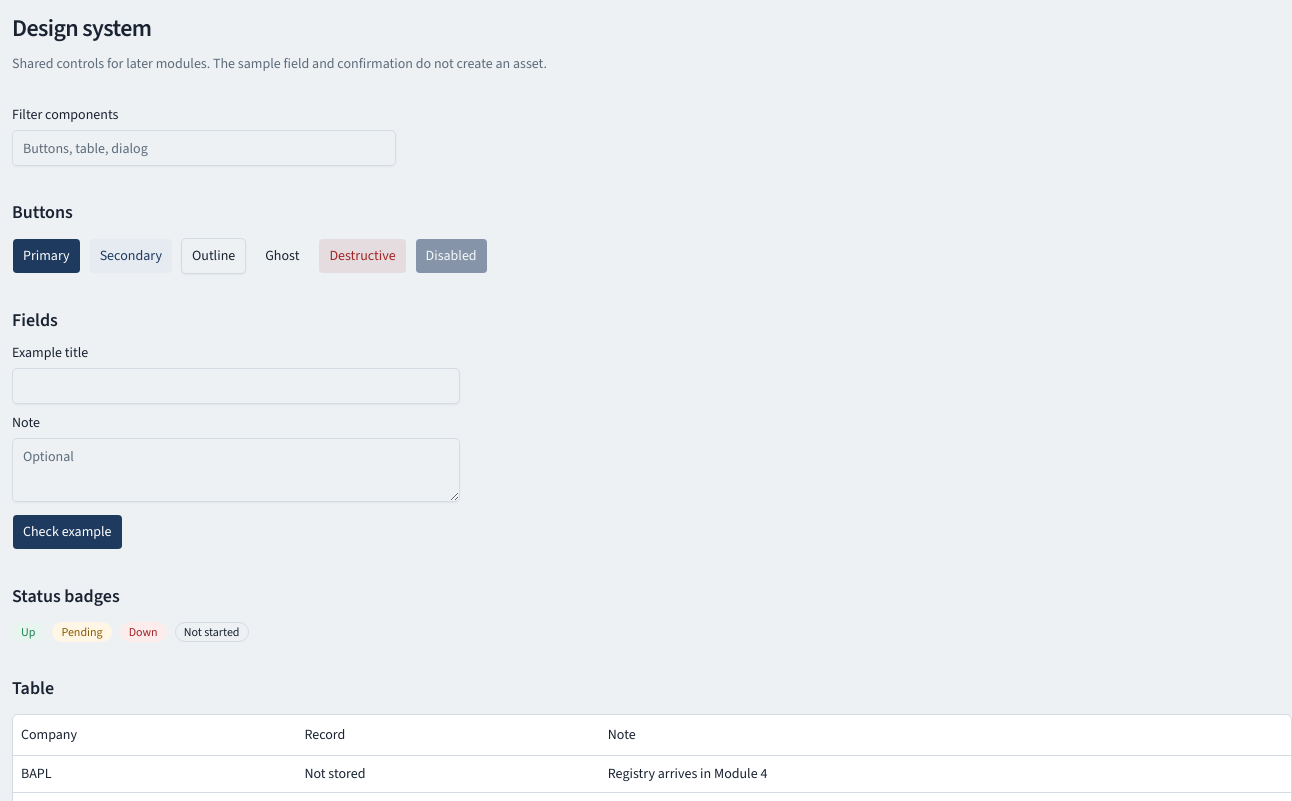
Scenario: DesignSystemPage › filters sections by name
Type "dialog" into the field labelled "Filter components".
click(204, 148); type("dialog")  # box [12,130,396,166]
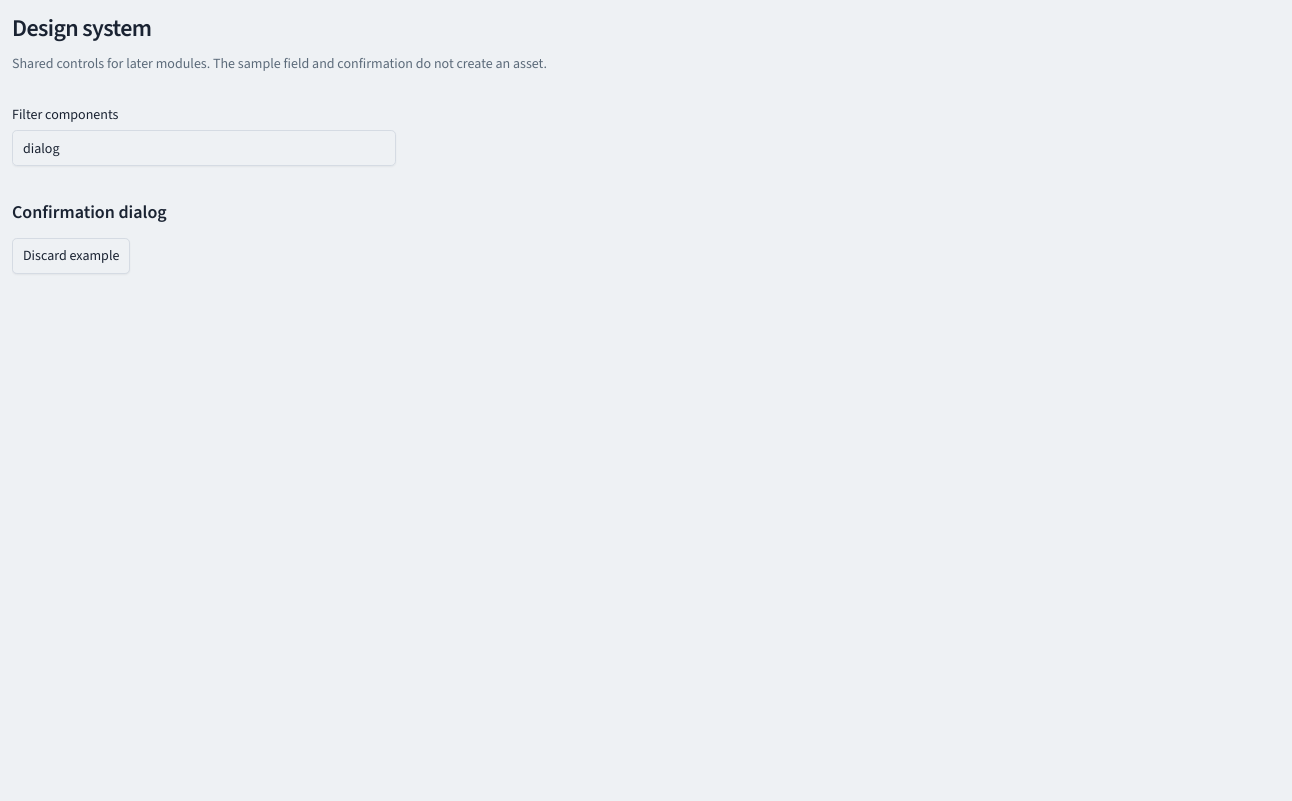
expect the heading "Confirmation dialog" is shown: met, box [12,200,167,224]
expect the heading "Buttons" is gone: met
